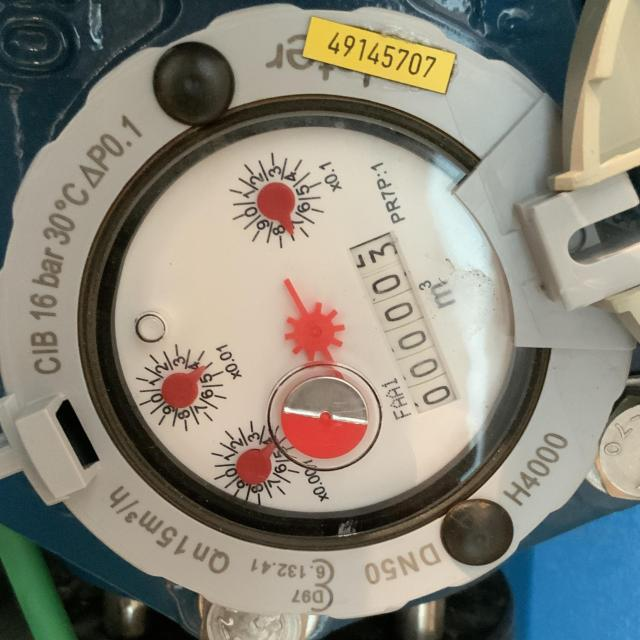gaz_meter: (109, 121, 528, 514)
indication: (348, 230, 462, 416)
